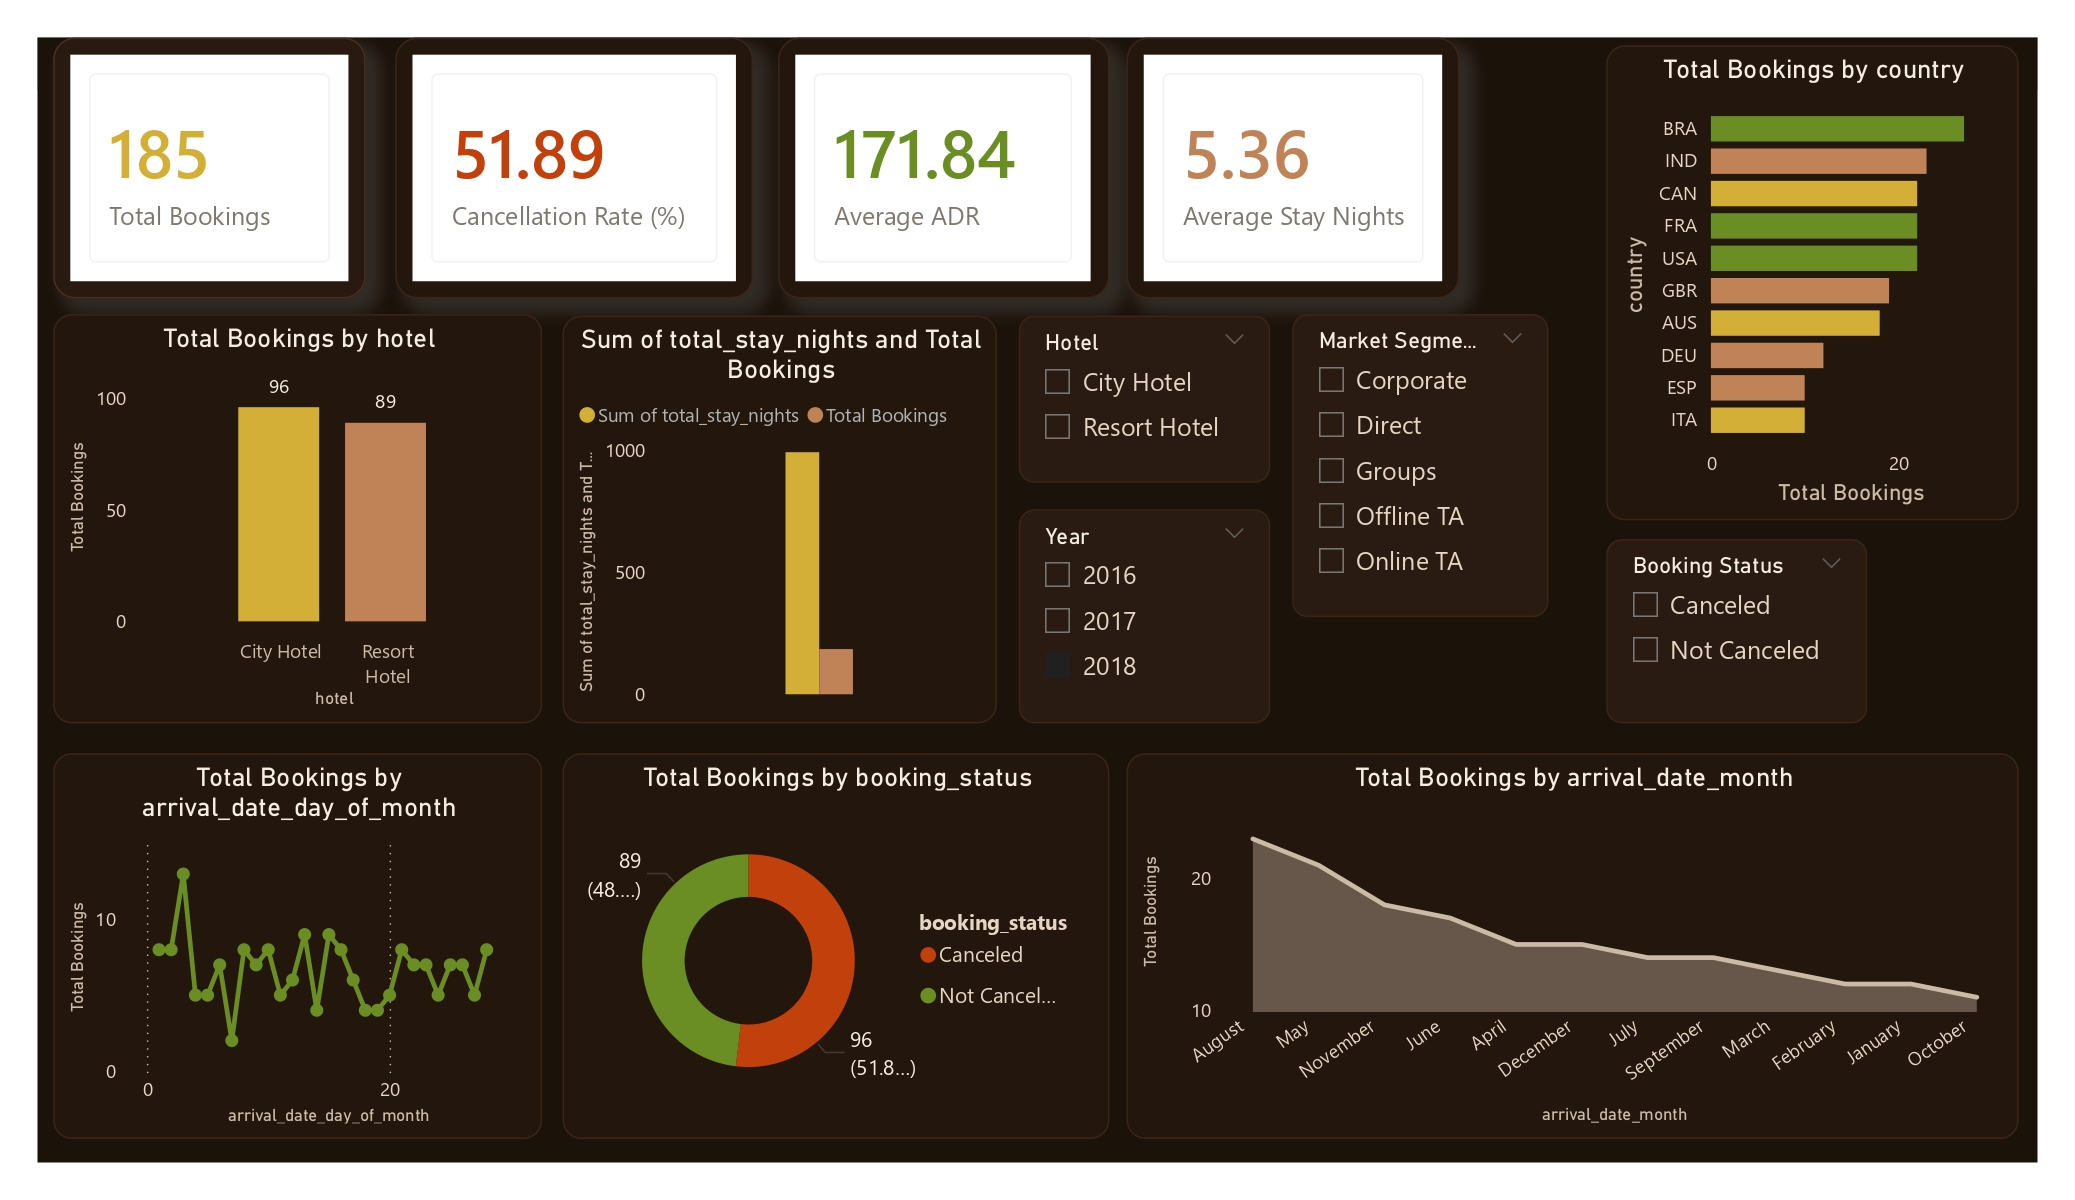

Layout of this report page (visuals, bound fields, positions):
{"tool":"powerbi","page":{"name":"Page 1","canvas":[1280,720],"ordinal":0},"visuals":[{"type":"cardVisual","fields":{"Data":["cleaned_hotel_bookings.Total Bookings"]},"box":[9.5,0,200.4,167],"z":0},{"type":"cardVisual","fields":{"Data":["cleaned_hotel_bookings.Cancellation Rate (%)"]},"box":[229,0,229,167],"z":1000},{"type":"cardVisual","fields":{"Data":["cleaned_hotel_bookings.Average ADR"]},"box":[474,0,211.6,167],"z":2000},{"type":"cardVisual","fields":{"Data":["cleaned_hotel_bookings.Average Stay Nights"]},"box":[696.7,0,213.1,167],"z":3000},{"type":"columnChart","fields":{"Category":["cleaned_hotel_bookings.hotel"],"Y":["cleaned_hotel_bookings.Total Bookings"]},"box":[9.5,176.6,313.4,262.5],"z":4000},{"type":"lineChart","fields":{"Category":["cleaned_hotel_bookings.arrival_date_day_of_month"],"Y":["cleaned_hotel_bookings.Total Bookings"]},"box":[9.5,458.1,313.4,246.5],"z":5000},{"type":"donutChart","fields":{"Category":["cleaned_hotel_bookings.booking_status"],"Y":["cleaned_hotel_bookings.Total Bookings"]},"box":[335.6,458.1,349.9,246.5],"z":6000},{"type":"clusteredColumnChart","fields":{"Y":["Sum(cleaned_hotel_bookings.total_stay_nights)","cleaned_hotel_bookings.Total Bookings"]},"box":[335.6,178.1,278.4,260.9],"z":7000},{"type":"areaChart","fields":{"Y":["cleaned_hotel_bookings.Total Bookings"],"Category":["cleaned_hotel_bookings.arrival_date_month"]},"box":[696.7,458.1,571,246.5],"z":8000},{"type":"barChart","fields":{"Category":["cleaned_hotel_bookings.country"],"Y":["cleaned_hotel_bookings.Total Bookings"]},"box":[1003.7,4.8,264,303.8],"z":9000},{"type":"slicer","fields":{"Values":["cleaned_hotel_bookings.hotel"]},"box":[628.3,178.1,160.7,106.6],"z":10000},{"type":"slicer","fields":{"Values":["cleaned_hotel_bookings.arrival_date_year"]},"box":[628.3,302.2,160.7,136.8],"z":11000},{"type":"slicer","fields":{"Values":["cleaned_hotel_bookings.market_segment"]},"box":[803.3,176.6,163.8,194.1],"z":12000},{"type":"slicer","fields":{"Values":["cleaned_hotel_bookings.booking_status"]},"box":[1003.7,321.3,167,117.7],"z":13000}]}

Visuals, with their boxes in screenshot pixels (x1, y1, x2, y2):
cardVisual - cleaned_hotel_bookings.Total Bookings: [x1=52, y1=38, x2=365, y2=298]
cardVisual - cleaned_hotel_bookings.Cancellation Rate (%): [x1=395, y1=38, x2=753, y2=298]
cardVisual - cleaned_hotel_bookings.Average ADR: [x1=778, y1=38, x2=1109, y2=298]
cardVisual - cleaned_hotel_bookings.Average Stay Nights: [x1=1126, y1=38, x2=1459, y2=298]
columnChart - cleaned_hotel_bookings.hotel x cleaned_hotel_bookings.Total Bookings: [x1=52, y1=313, x2=542, y2=724]
lineChart - cleaned_hotel_bookings.arrival_date_day_of_month x cleaned_hotel_bookings.Total Bookings: [x1=52, y1=753, x2=542, y2=1138]
donutChart - cleaned_hotel_bookings.booking_status x cleaned_hotel_bookings.Total Bookings: [x1=562, y1=753, x2=1109, y2=1138]
clusteredColumnChart - Sum(cleaned_hotel_bookings.total_stay_nights) x cleaned_hotel_bookings.Total Bookings: [x1=562, y1=316, x2=997, y2=723]
areaChart - cleaned_hotel_bookings.Total Bookings x cleaned_hotel_bookings.arrival_date_month: [x1=1126, y1=753, x2=2018, y2=1138]
barChart - cleaned_hotel_bookings.country x cleaned_hotel_bookings.Total Bookings: [x1=1606, y1=45, x2=2018, y2=520]
slicer - cleaned_hotel_bookings.hotel: [x1=1019, y1=316, x2=1270, y2=482]
slicer - cleaned_hotel_bookings.arrival_date_year: [x1=1019, y1=510, x2=1270, y2=723]
slicer - cleaned_hotel_bookings.market_segment: [x1=1293, y1=313, x2=1549, y2=617]
slicer - cleaned_hotel_bookings.booking_status: [x1=1606, y1=540, x2=1867, y2=723]
